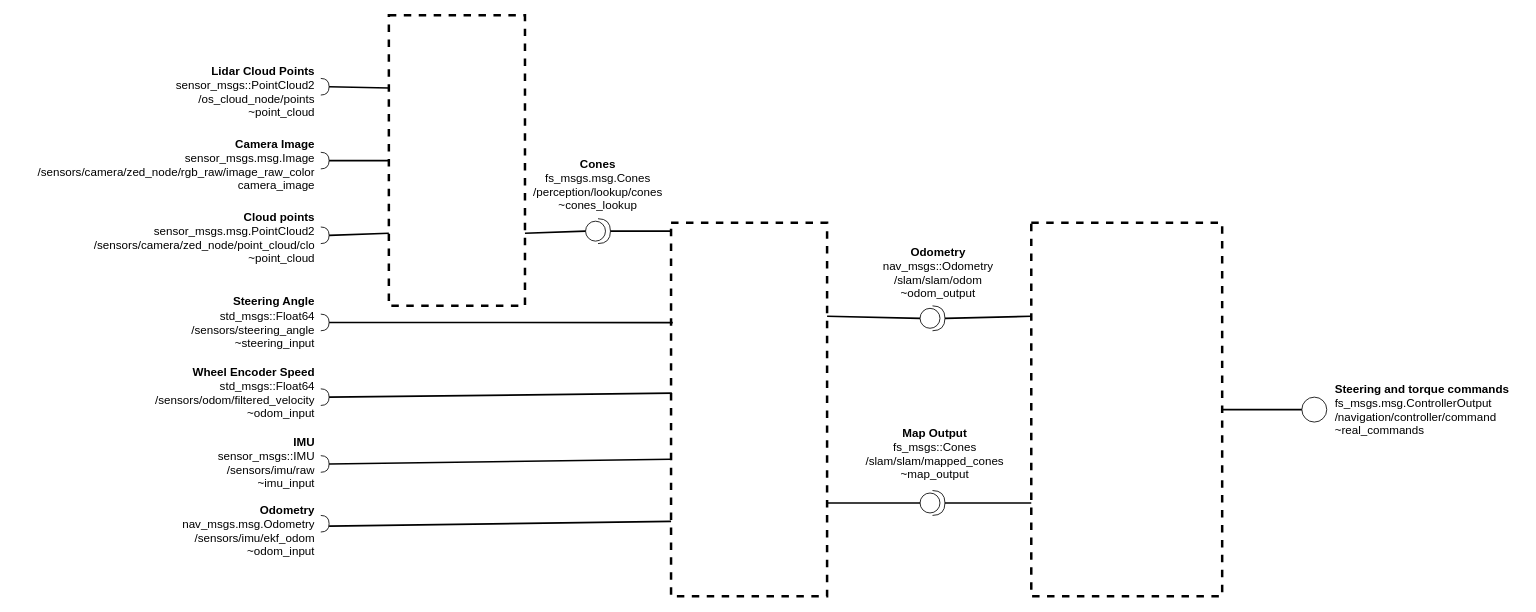
The diagram is 1536 pixels wide and 612 high, and some of its shapes have lost their labels. The centre of each missing label's shape, as x and y in pixels:
"navigation" belongs at point 1126,409.
"perception" belongs at point 456,160.
"slam" belongs at point 748,409.
